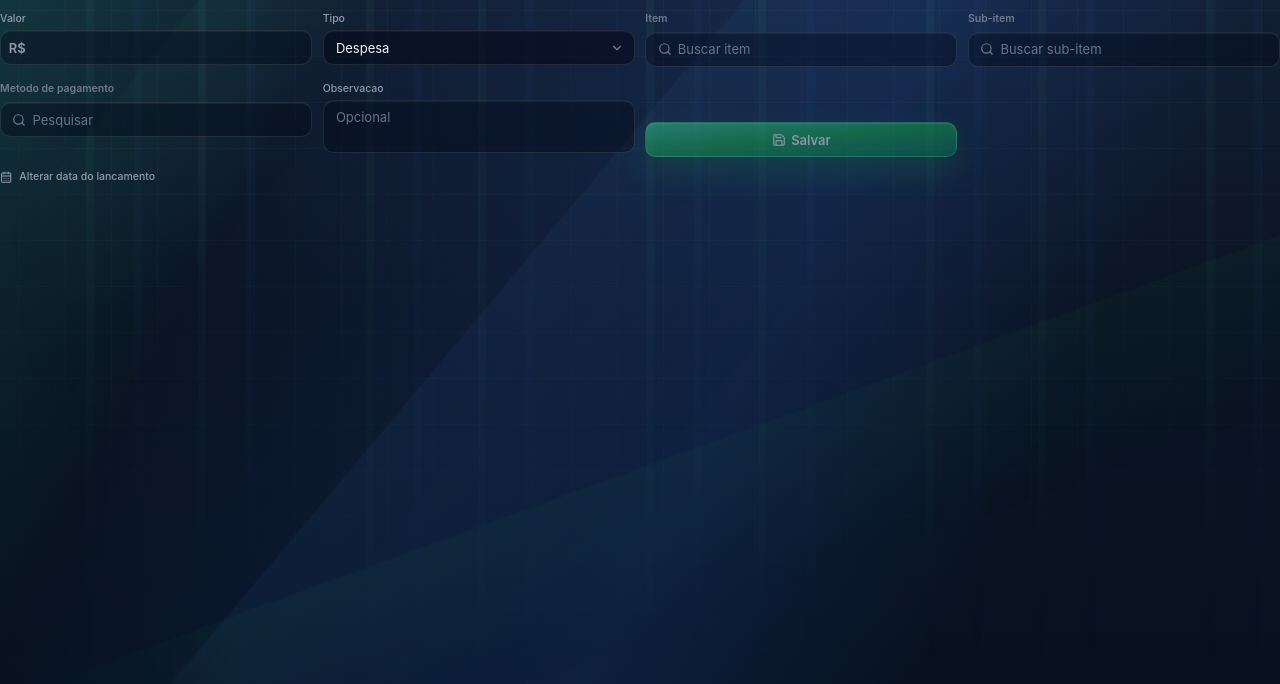
Test: LancamentoForm item e sub-item › criar sub-item exige item correspondente
The width and height of the screenshot is (1280, 684).
Type "Padaria" into the field labelled "sub-item". click: (1124, 49)
box: [968,32,1279,67]
(page scrolled)
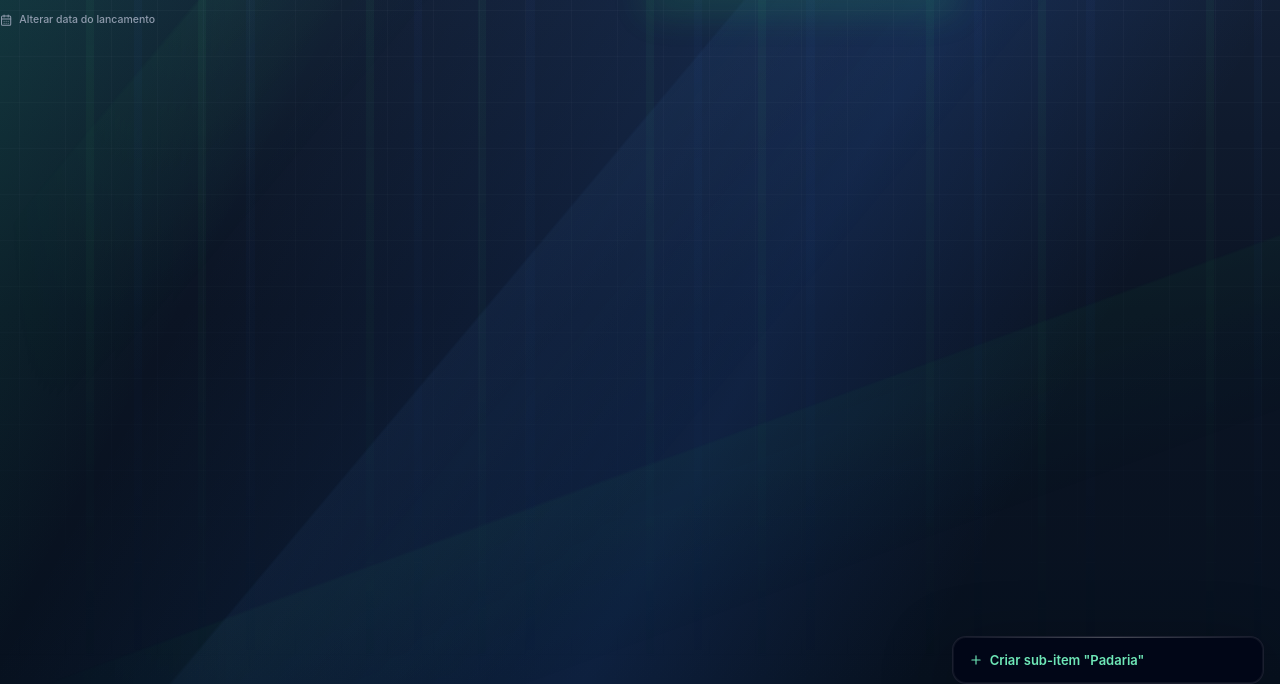
Click the button "Criar sub-item \"Padaria\"". click: (1108, 660)
box: [958,642,1258,678]
(page scrolled)
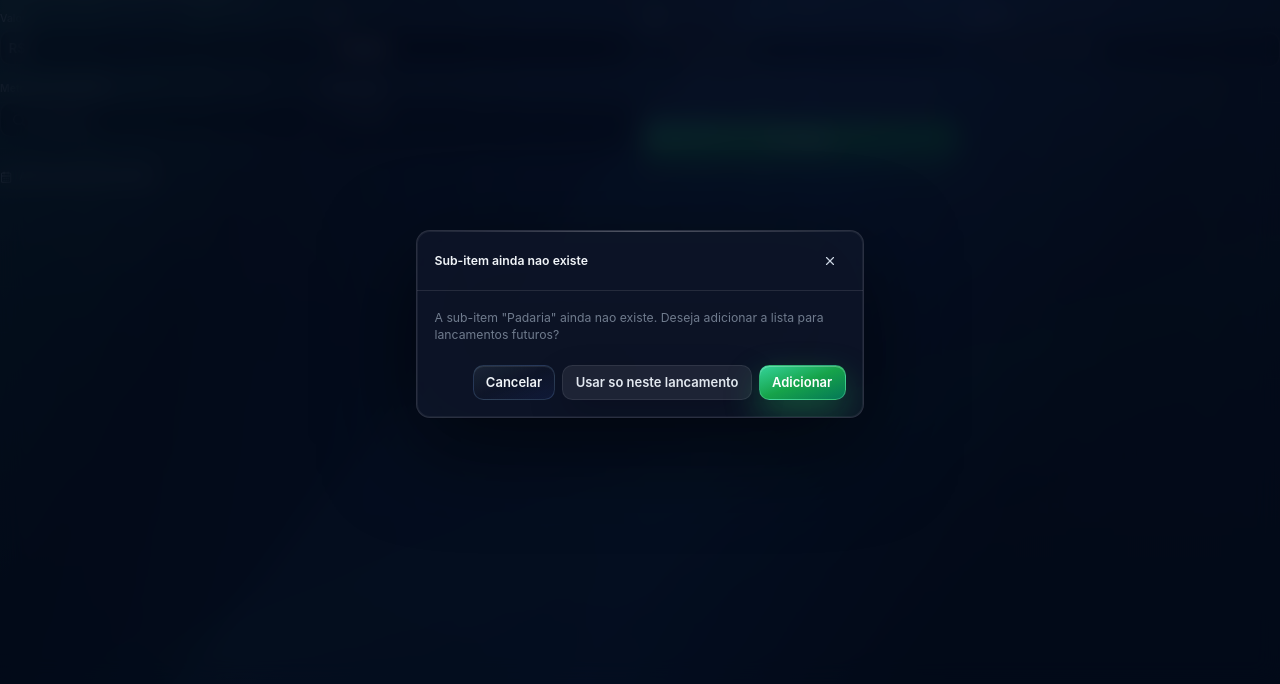
Expected: the heading "Sub-item ainda nao existe" is shown, [434,252,588,269]
Click the button "Adicionar". click: (802, 382)
box: [759,365,846,400]
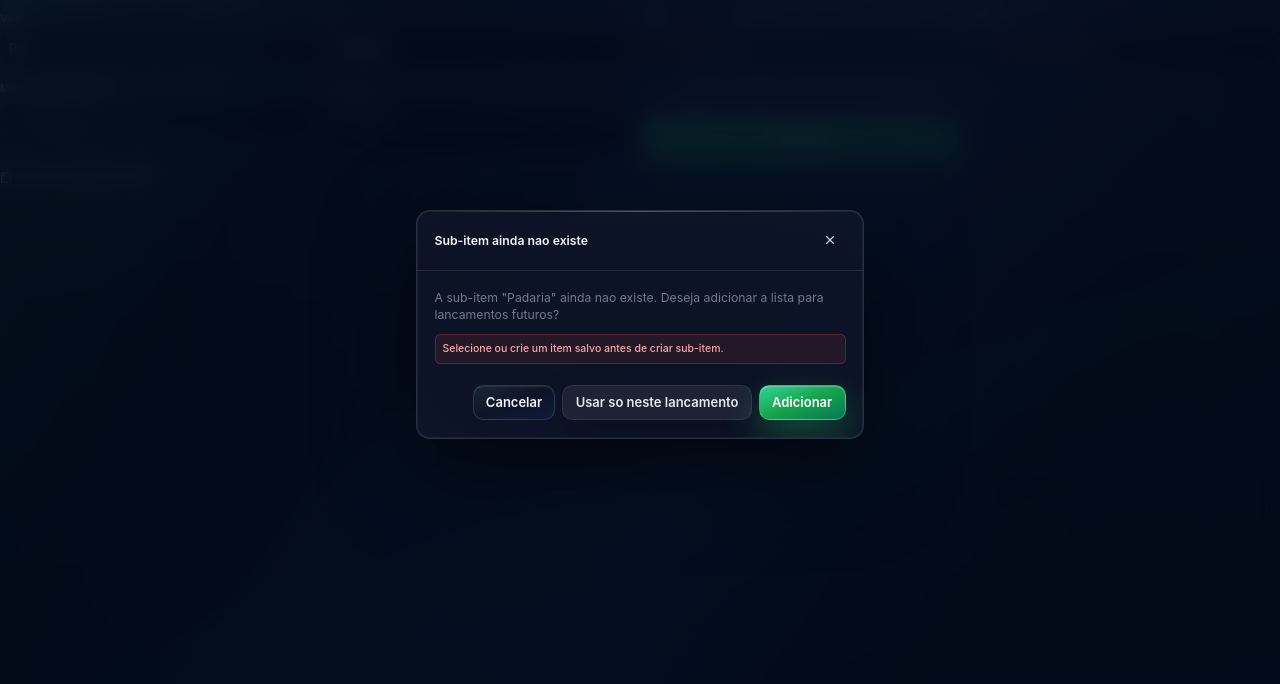
Expected: the text "Selecione ou crie um item salvo antes de criar sub-item." is shown, [434,334,846,364]
